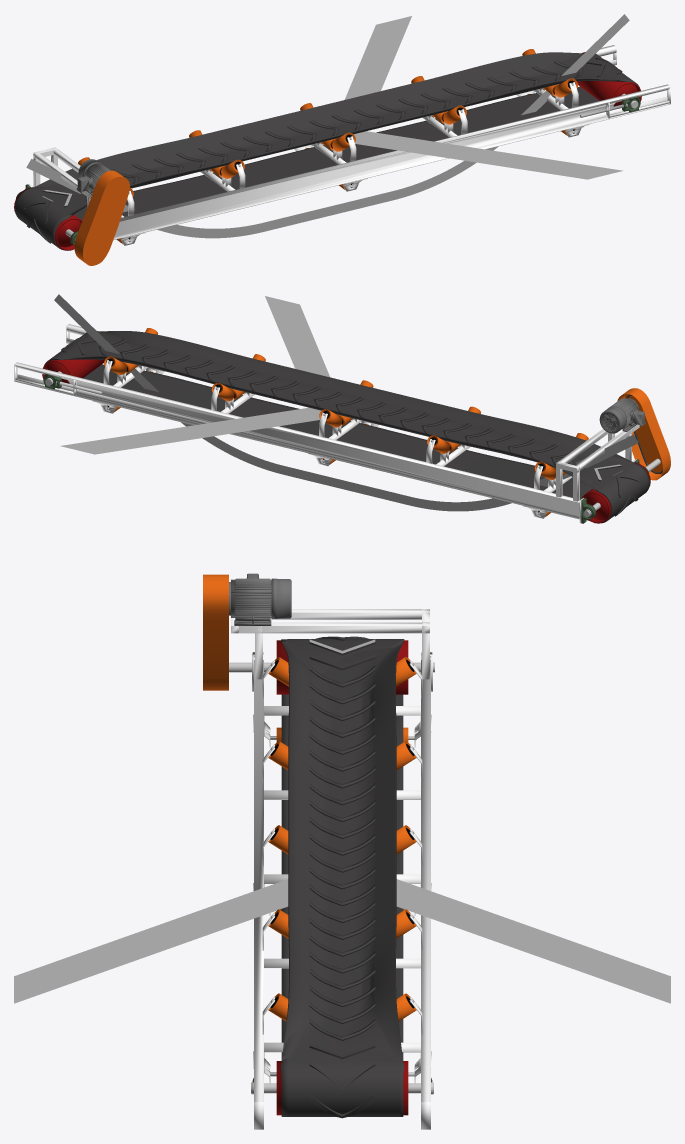
File: MyTransfer.FBX
3 renders of one model, top to bottom at view 1: azimuth 30°, elevation 25°; view 2: azimuth 150°, elevation 25°; view 3: azimuth 270°, elevation 25°, orthographic. The views are drawn at different scales.
Visible parts, largest first — view 1: Correa, Canales, Tapa_2, Tapa_1, Tapa, Soportes_P, Polines_de, Tambor_Con, Tambor_Mot, Sopor, Cubo_2; view 2: Correa, Canales, Tapa_2, Tapa_1, Soportes_P, Tapa, Polines_de, Tambor_Con, Tambor_Mot, Tapa_trase, Sopor, Cubo_2 (+1 smaller); view 3: Correa, Tapa_2, Canales, Soportes_P, Polines_de, Tapa, Cubo_3, Cubo_2, Aletas, Cilindro, Tapa_trase.
Part boxes in pixels (bbox=[...]): Correa: bbox=[14, 52, 639, 250]; Canales: bbox=[28, 45, 670, 240]; Tapa_2: bbox=[344, 16, 623, 179]; Tapa_1: bbox=[26, 14, 629, 238]; Tapa: bbox=[74, 170, 129, 265]; Soportes_P: bbox=[121, 82, 578, 217]; Polines_de: bbox=[78, 49, 577, 200]; Tambor_Con: bbox=[577, 52, 641, 106]; Tambor_Mot: bbox=[14, 187, 81, 250]; Sopor: bbox=[121, 90, 589, 245]; Cubo_2: bbox=[33, 153, 91, 198]; Correa: bbox=[44, 331, 649, 523]; Canales: bbox=[14, 324, 636, 522]; Tapa_2: bbox=[60, 296, 329, 454]; Tapa_1: bbox=[54, 294, 638, 511]; Soportes_P: bbox=[103, 360, 572, 492]; Tapa: bbox=[617, 388, 670, 480]; Polines_de: bbox=[104, 328, 588, 479]; Tambor_Con: bbox=[42, 331, 104, 383]; Tambor_Mot: bbox=[582, 462, 650, 523]; Tapa_trase: bbox=[599, 406, 626, 433]; Sopor: bbox=[93, 367, 546, 518]; Cubo_2: bbox=[573, 424, 639, 472]; Correa: bbox=[280, 639, 404, 1116]; Tapa_2: bbox=[14, 879, 670, 1003]; Canales: bbox=[252, 654, 432, 1129]; Soportes_P: bbox=[262, 660, 422, 1052]; Polines_de: bbox=[268, 657, 416, 1021]; Tapa: bbox=[203, 574, 228, 690]; Cubo_3: bbox=[231, 622, 429, 633]; Cubo_2: bbox=[270, 609, 429, 619]; Aletas: bbox=[231, 578, 271, 617]; Cilindro: bbox=[229, 580, 271, 615]; Tapa_trase: bbox=[271, 578, 291, 618].
Size of the model in its own units: 1409 by 294 by 838.
